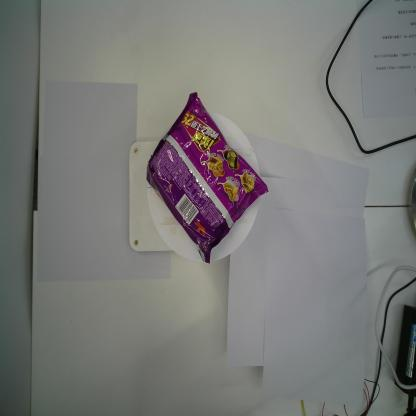Instant Noodles: (145, 91, 270, 266)
